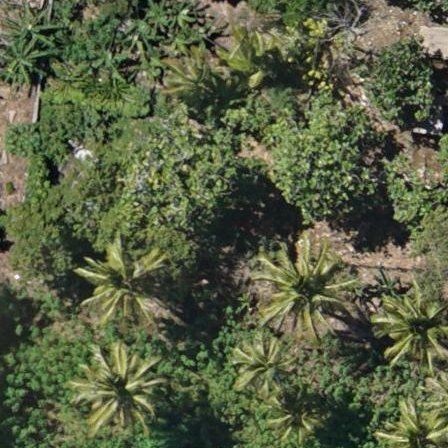palm_tree: (71, 336, 167, 438), (79, 238, 166, 331), (375, 287, 448, 371), (260, 243, 333, 320), (231, 336, 293, 393), (383, 396, 448, 448)
